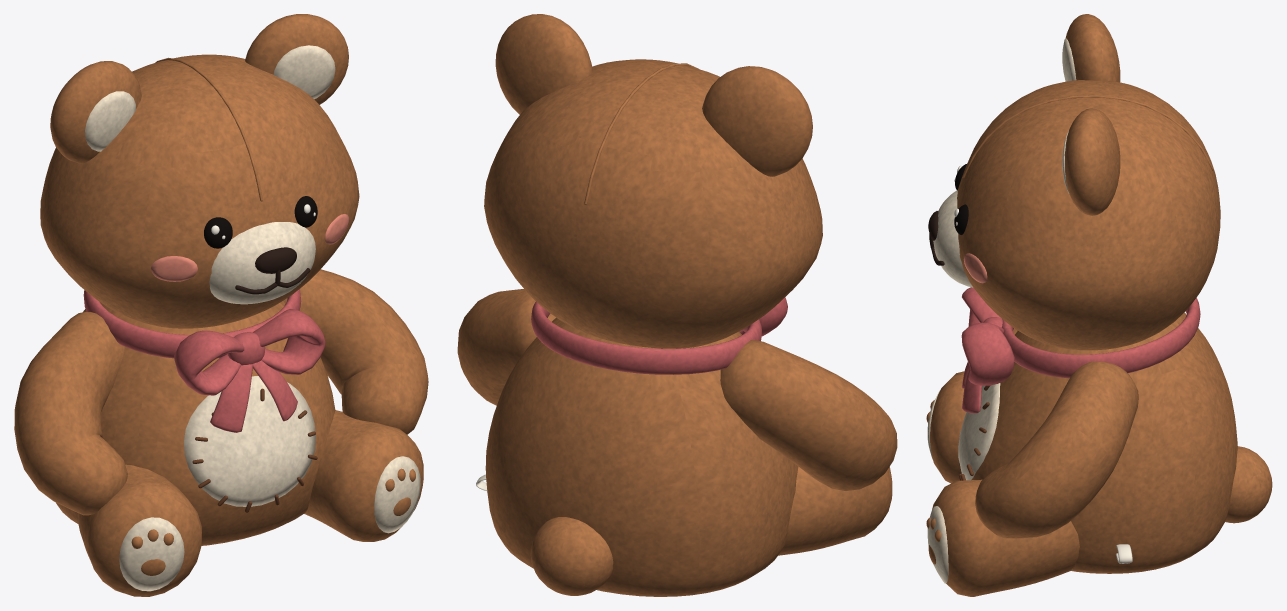
Rendered from plush-bear.glb.
3 renders of one model, left to right at view 1: azimuth 30°, elevation 25°; view 2: azimuth 150°, elevation 25°; view 3: azimuth 270°, elevation 25°, orthographic. The views are drawn at different scales.
Visible parts, largest first — view 1: Bear_Head, Bear_Body, Bear_Arm_R, Bear_Arm_L, Bear_BellyPatch, Bear_Leg_L, Bear_Leg_R, Bear_Snout, Bear_Ear_R, Bear_Ear_L, Bear_BowLoop_R, Bear_PawSole_R (+13 smaller); view 2: Bear_Head, Bear_Body, Bear_Arm_R, Bear_Ear_R, Bear_Ear_L, Bear_Arm_L, Bear_Leg_R, Bear_NeckRibbon, Bear_Tail, Bear_CrownSeam, Bear_BowLoop_R; view 3: Bear_Head, Bear_Body, Bear_Arm_L, Bear_Leg_L, Bear_Ear_L, Bear_NeckRibbon, Bear_Leg_R, Bear_Ear_R, Bear_BowLoop_L, Bear_Tail, Bear_BellyPatch, Bear_Snout (+5 smaller).
Part boxes in pixels (x1=…): Bear_Head: x1=40, y1=54, x2=359, y2=328; Bear_Body: x1=56, y1=301, x2=335, y2=545; Bear_Arm_R: x1=14, y1=312, x2=127, y2=515; Bear_Arm_L: x1=283, y1=269, x2=428, y2=434; Bear_BellyPatch: x1=184, y1=376, x2=315, y2=506; Bear_Leg_L: x1=304, y1=410, x2=423, y2=541; Bear_Leg_R: x1=78, y1=464, x2=201, y2=596; Bear_Snout: x1=209, y1=222, x2=315, y2=304; Bear_Ear_R: x1=50, y1=61, x2=141, y2=163; Bear_Ear_L: x1=245, y1=14, x2=348, y2=104; Bear_BowLoop_R: x1=174, y1=330, x2=244, y2=395; Bear_PawSole_R: x1=119, y1=517, x2=184, y2=591; Bear_Head: x1=484, y1=59, x2=822, y2=348; Bear_Body: x1=485, y1=317, x2=798, y2=596; Bear_Arm_R: x1=720, y1=339, x2=897, y2=490; Bear_Ear_R: x1=702, y1=66, x2=812, y2=176; Bear_Ear_L: x1=495, y1=14, x2=592, y2=114; Bear_Arm_L: x1=457, y1=289, x2=555, y2=405; Bear_Leg_R: x1=778, y1=467, x2=892, y2=555; Bear_NeckRibbon: x1=531, y1=301, x2=761, y2=374; Bear_Tail: x1=530, y1=517, x2=613, y2=595; Bear_CrownSeam: x1=584, y1=63, x2=698, y2=205; Bear_BowLoop_R: x1=739, y1=297, x2=787, y2=336; Bear_Head: x1=957, y1=80, x2=1220, y2=350; Bear_Body: x1=971, y1=312, x2=1237, y2=573; Bear_Arm_L: x1=975, y1=361, x2=1138, y2=538; Bear_Leg_L: x1=932, y1=479, x2=1079, y2=596; Bear_Ear_L: x1=1064, y1=108, x2=1120, y2=215; Bear_NeckRibbon: x1=1001, y1=298, x2=1200, y2=378; Bear_Leg_R: x1=930, y1=371, x2=966, y2=483; Bear_Ear_R: x1=1065, y1=14, x2=1120, y2=82; Bear_BowLoop_L: x1=961, y1=322, x2=1014, y2=385; Bear_Tail: x1=1225, y1=446, x2=1272, y2=523; Bear_BellyPatch: x1=958, y1=383, x2=1000, y2=480; Bear_Snout: x1=933, y1=190, x2=972, y2=287.
Bounding box in the file's own units: 0.4651 × 0.5425 × 0.3607.
9 materials, 4 textured.
